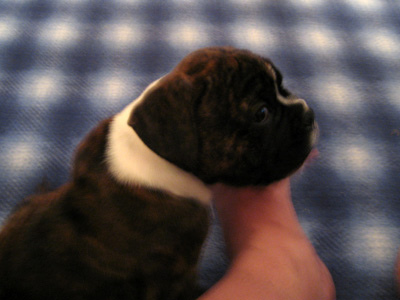dog: (1, 48, 320, 300)
